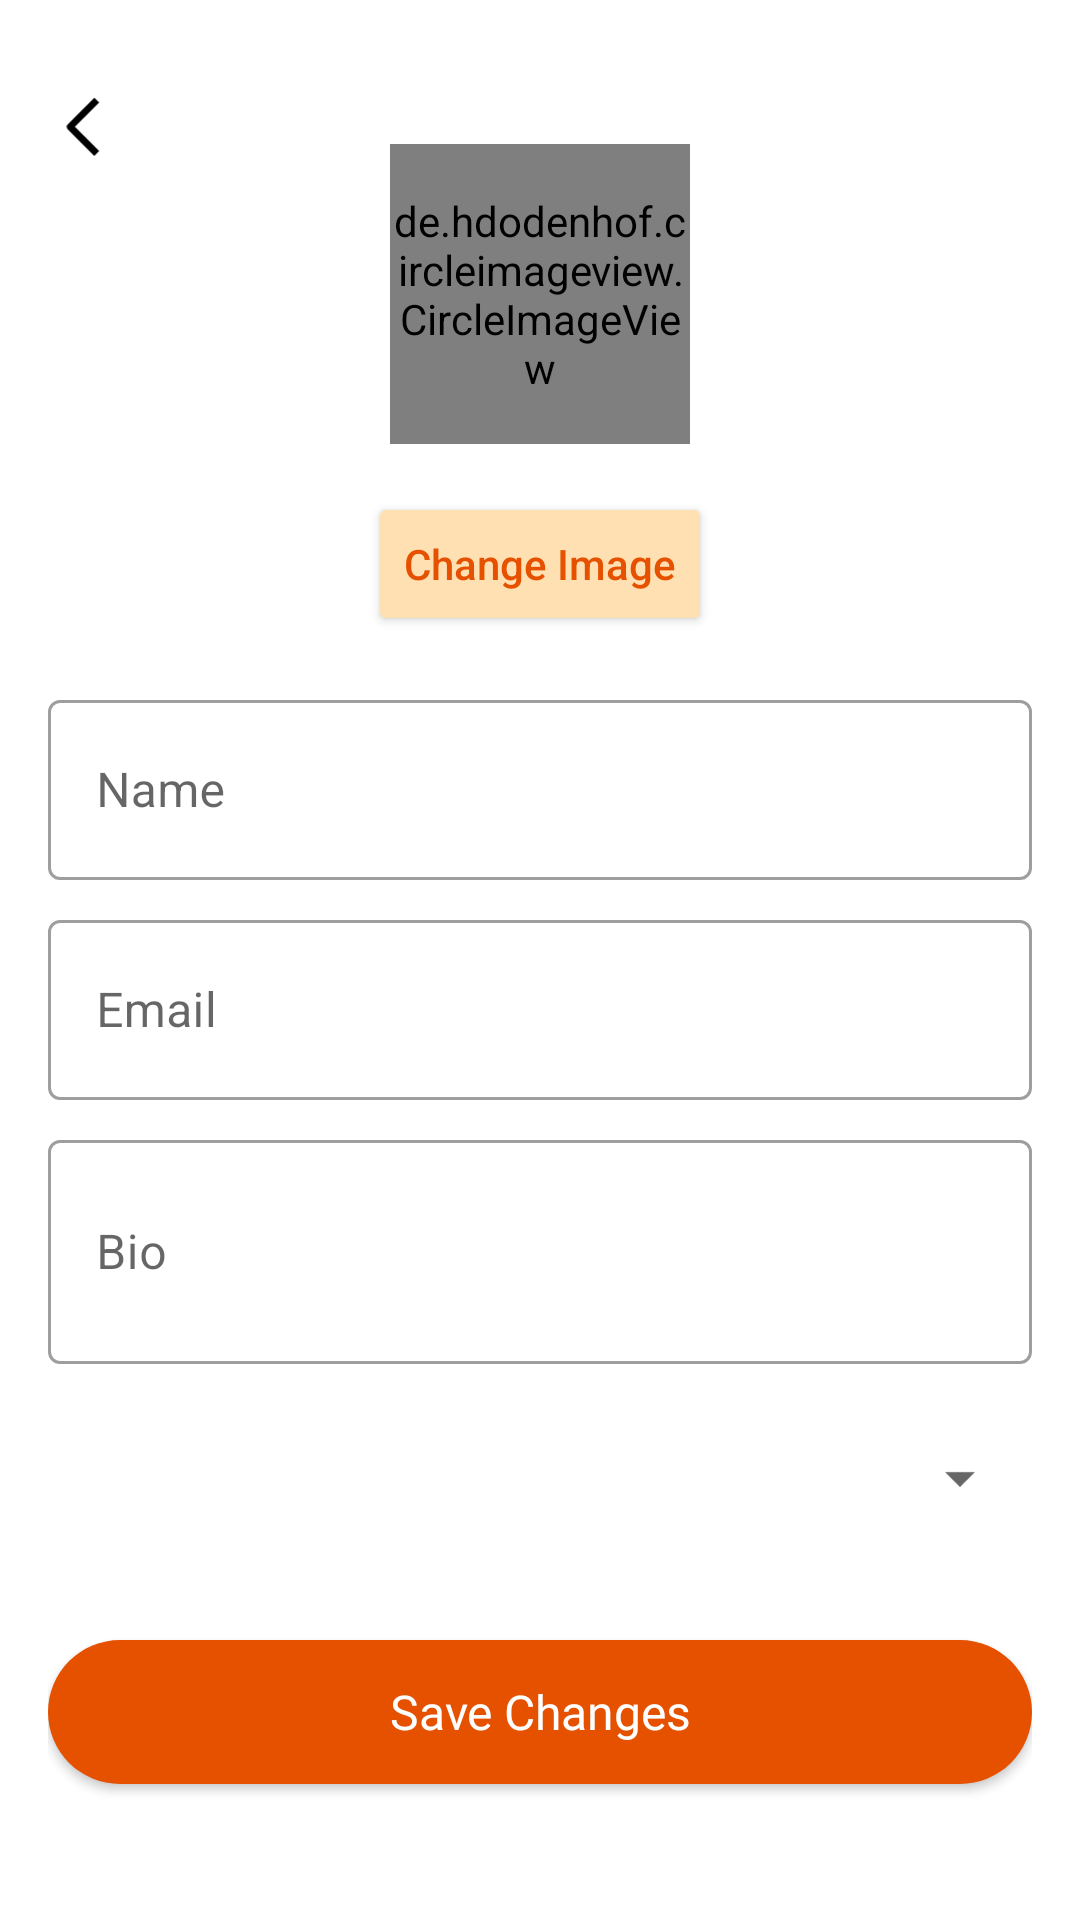

Screen size 1080×1920. Icon name, then its center in pixels as point (x, y):
back: point (83, 127)
